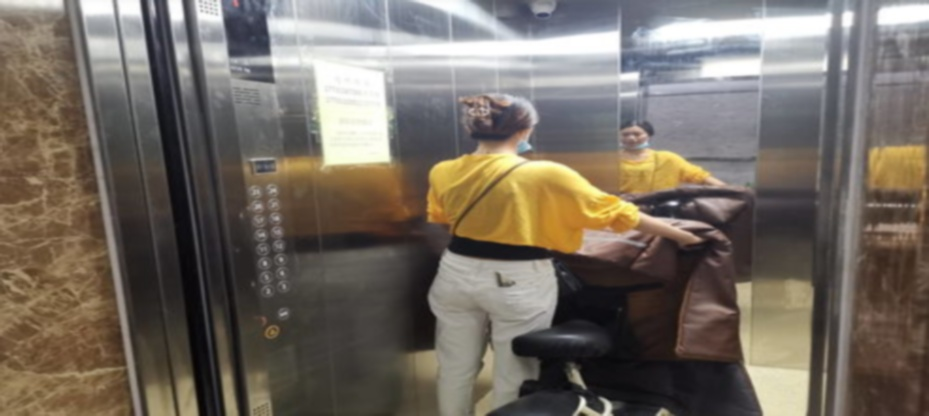ebike: (487, 199, 748, 412)
person: (432, 89, 708, 412), (616, 119, 739, 193)
